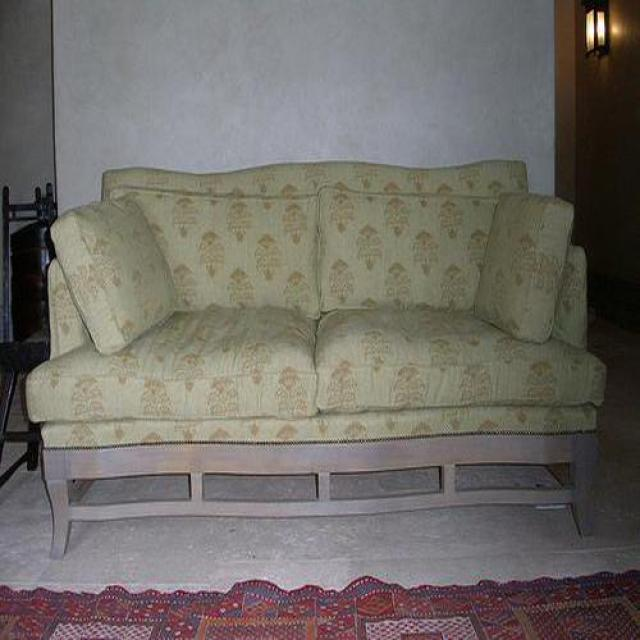sofa: (22, 160, 608, 561)
